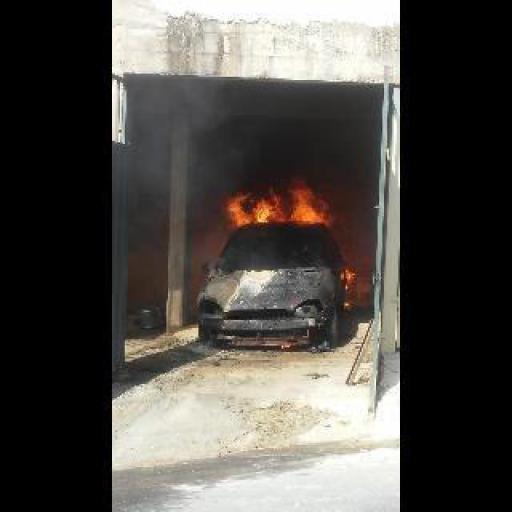smoke: (224, 174, 333, 228), (340, 266, 362, 288)
